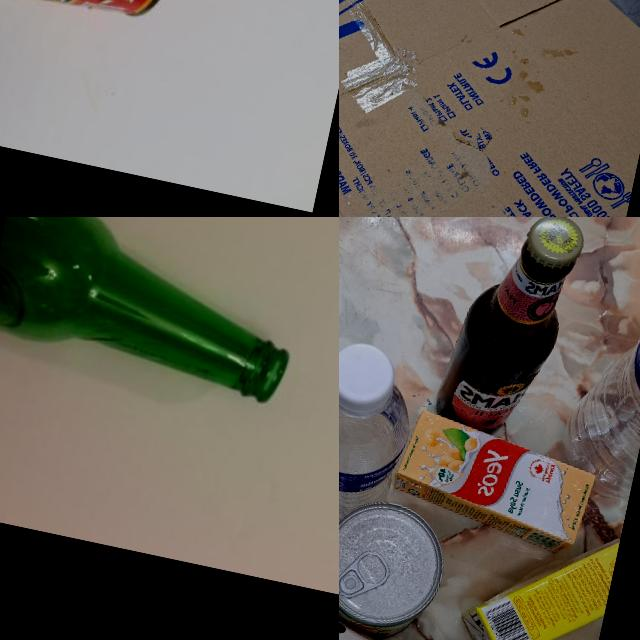aba de lata: (339, 542, 391, 603)
caixinha: (374, 407, 604, 549), (451, 500, 622, 640)
garrafa de vidro: (0, 217, 314, 407), (429, 217, 588, 444)
garrafa plástica: (545, 279, 640, 518), (339, 367, 421, 538)
lata: (0, 0, 339, 67), (339, 489, 453, 640)
papelão: (339, 0, 640, 217)
tampa plástica: (339, 339, 395, 417)
